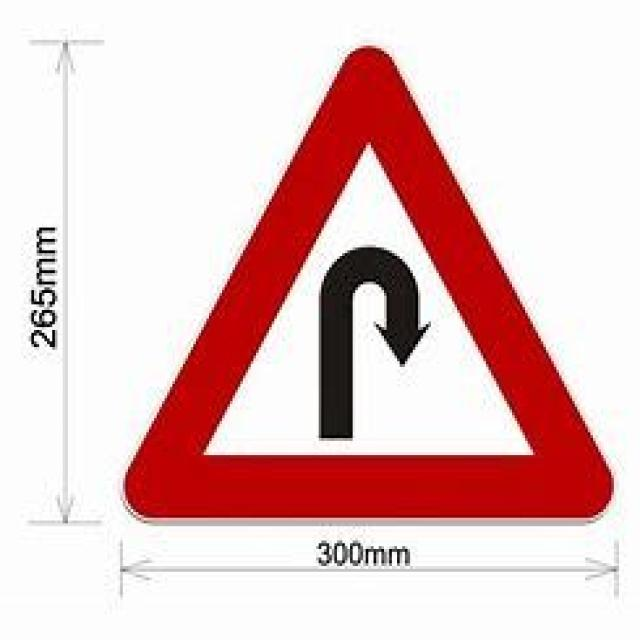RIGHT_HAIR_PIN_BEND: (127, 41, 611, 523)
